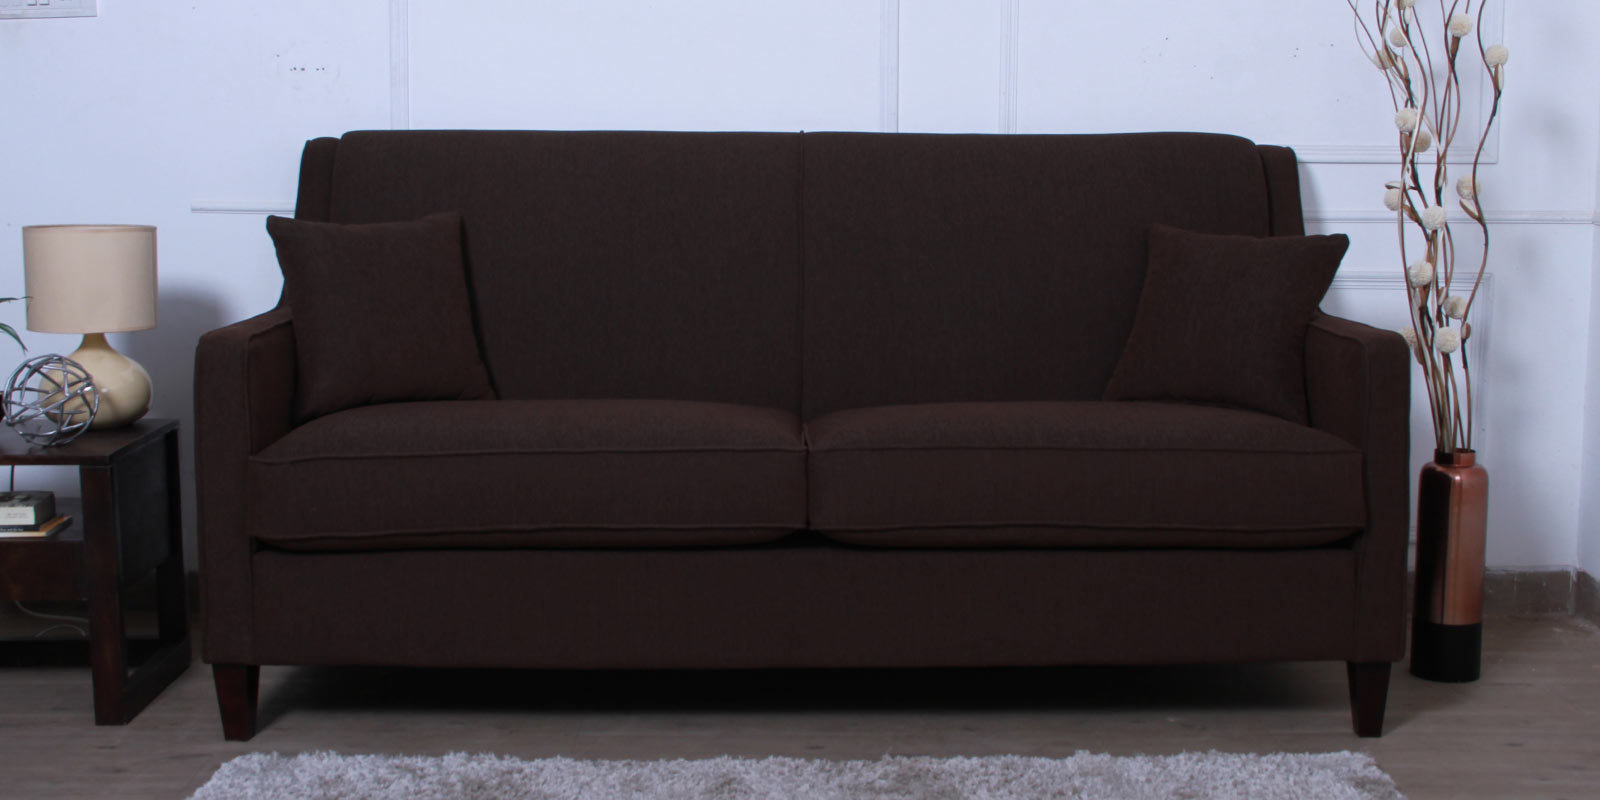Oscar Three Seater Sofa in Chestnut Brown Colour by CasaCraft: (195, 131, 1410, 741)
